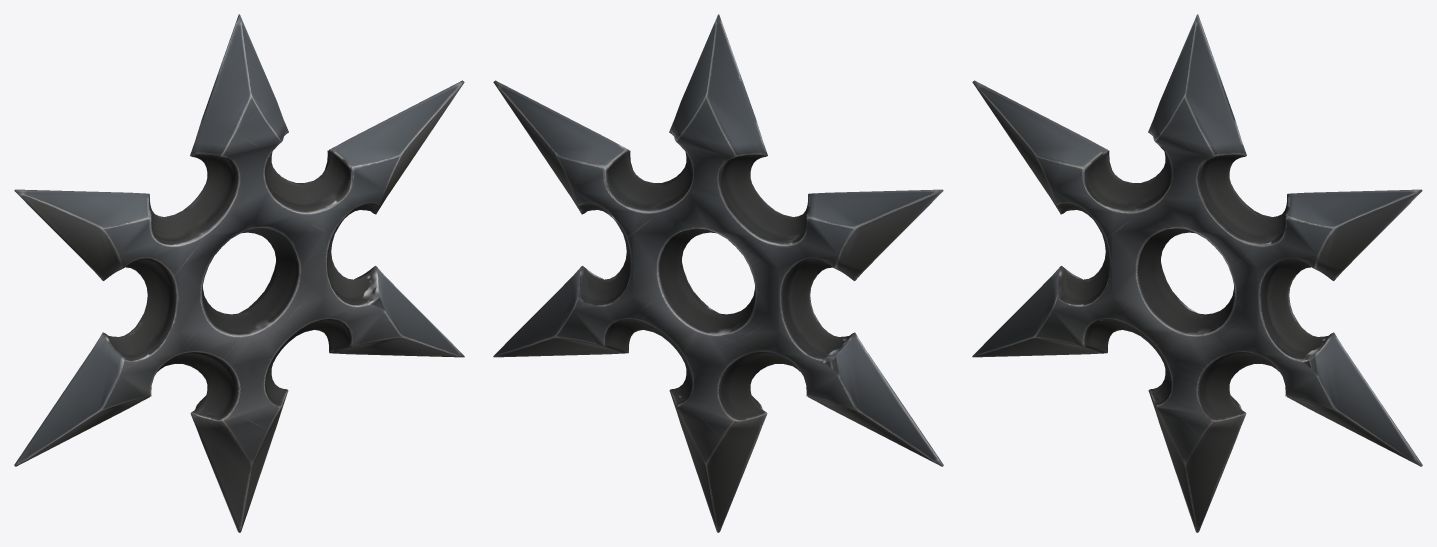
The model's file is shuriken.fbx.
3 renders of one model, left to right at view 1: azimuth 30°, elevation 25°; view 2: azimuth 150°, elevation 25°; view 3: azimuth 330°, elevation 25°, orthographic.
Visible parts, largest first — view 1: mesh_input; view 2: mesh_input; view 3: mesh_input.
Boxes of the visible parts, left/top/right/bottom form: mesh_input: left=14, top=14, right=464, bottom=532; mesh_input: left=493, top=14, right=943, bottom=532; mesh_input: left=972, top=14, right=1422, bottom=532.
Size of the model in its own units: 172 by 190 by 16.8.
1 material, 1 textured.
